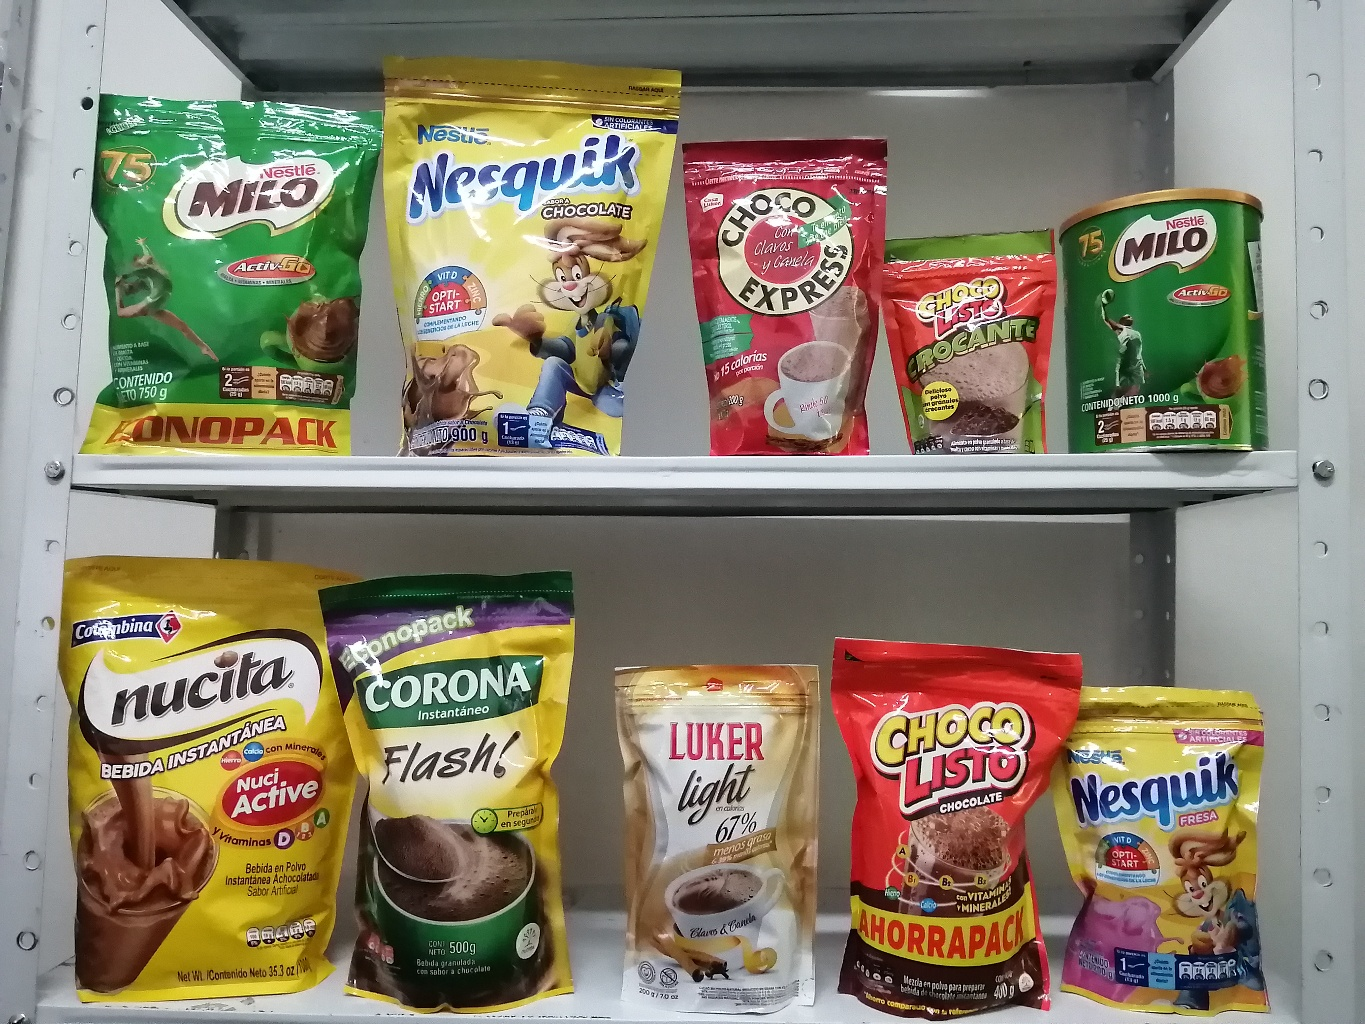COL0170102DYP10000: (886, 219, 1061, 447)
COL0170103DYP40000: (833, 632, 1072, 1011)
COL0170305DYP20000: (1060, 670, 1275, 1014)
